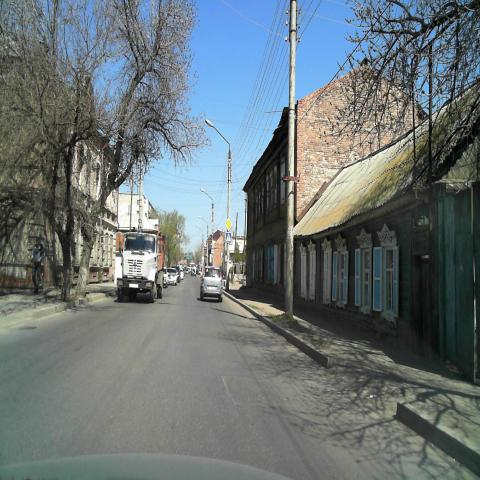2_1: (224, 218, 232, 232)
